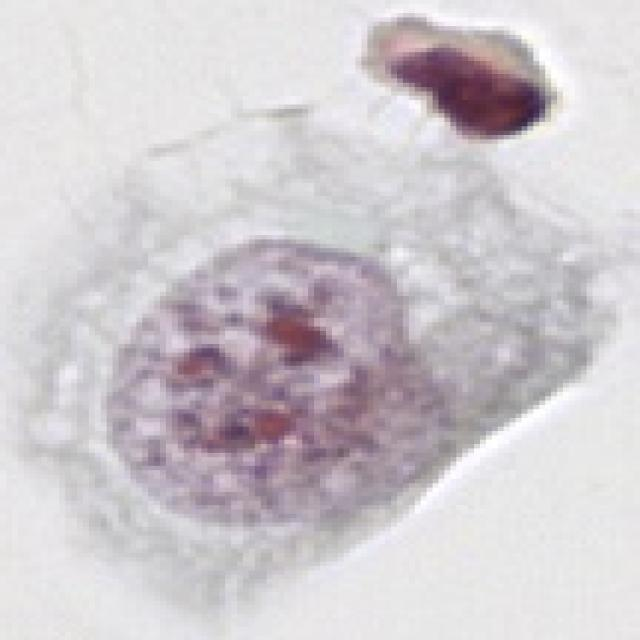nucleus: (58, 200, 464, 580)
